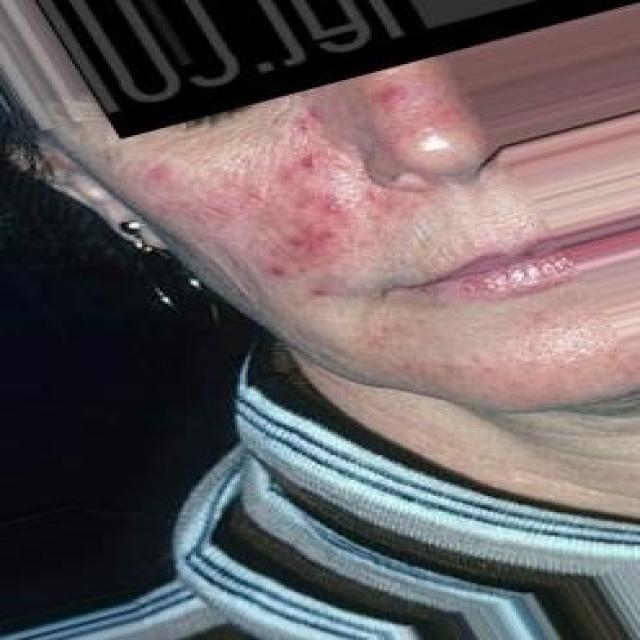Rosacea: (140, 149, 378, 267), (371, 83, 470, 149)
